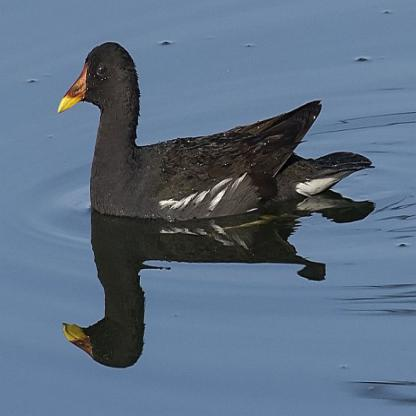Burung: (57, 41, 372, 222)
